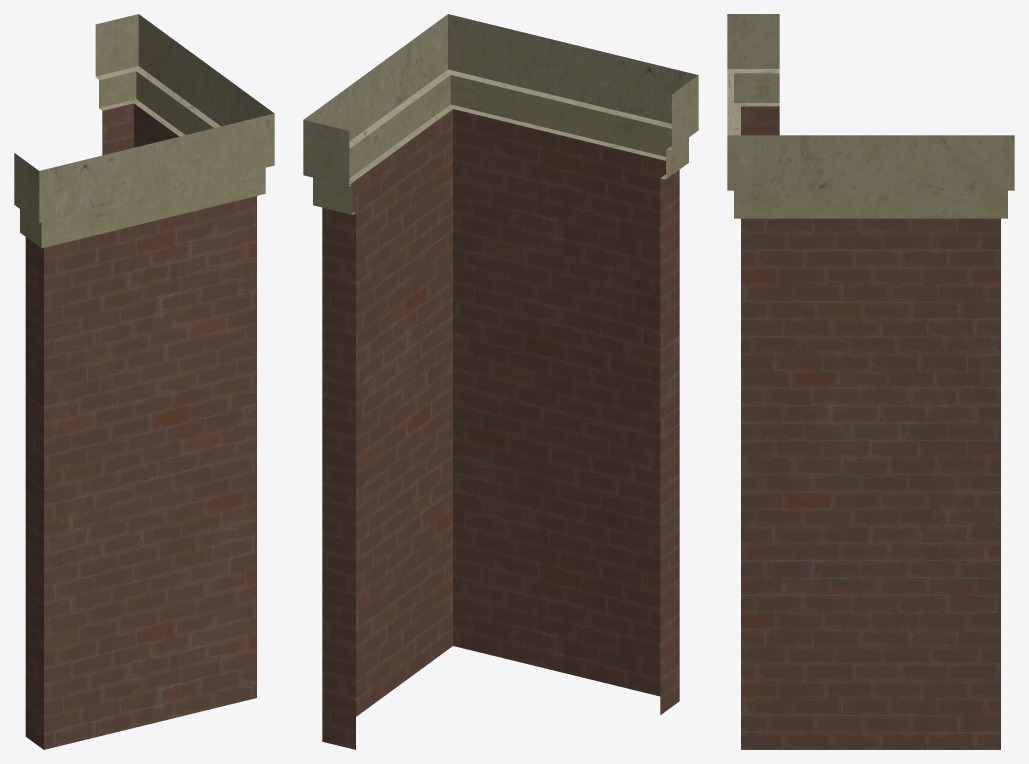
The model's file is Brick_CornerColumn_Top.gltf.
3 views of the same model, side by side, from view 1: azimuth 30°, elevation 25°; view 2: azimuth 150°, elevation 25°; view 3: azimuth 270°, elevation 25° (orthographic). The views are drawn at different scales.
Visible parts, largest first — view 1: Brick_CornerColumn_Top; view 2: Brick_CornerColumn_Top; view 3: Brick_CornerColumn_Top.
Part boxes in pixels (box(x1,y1,x2,y2)): Brick_CornerColumn_Top: box(14, 14, 274, 749); Brick_CornerColumn_Top: box(303, 14, 698, 749); Brick_CornerColumn_Top: box(727, 14, 1014, 749).
Bounding box in the file's own units: 1.26 × 3 × 1.26.
Materials: 2 (2 with a texture image).
